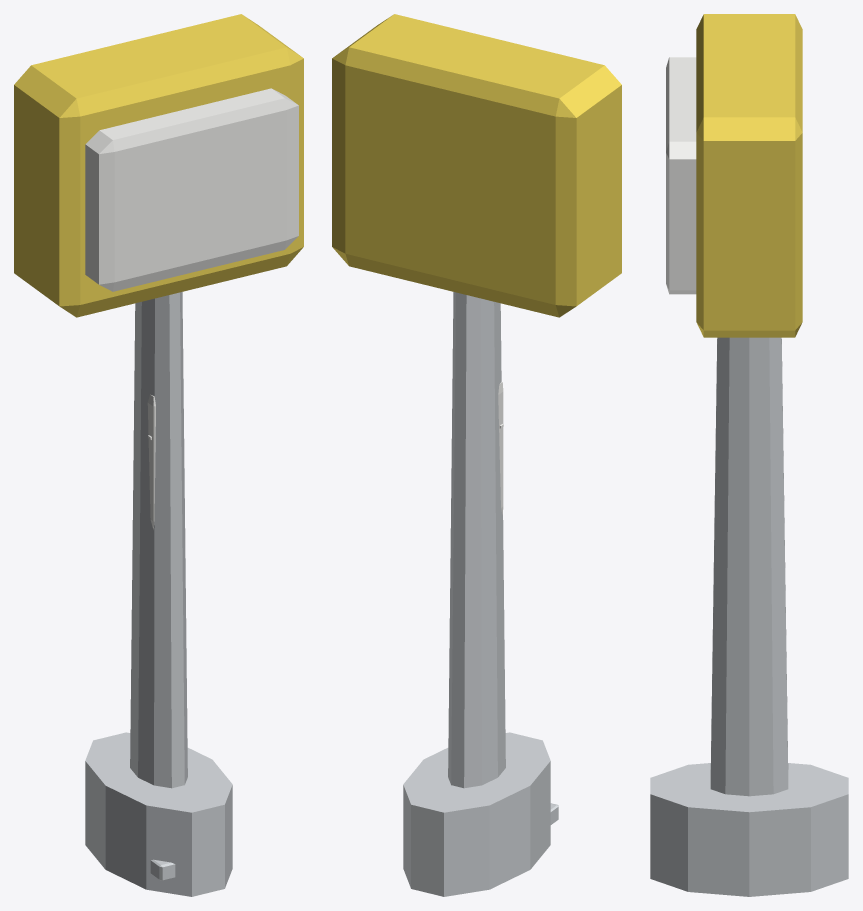
Rendered from b02_pedestrian_walk_signal.glb.
3 views of the same model, side by side, from view 1: azimuth 30°, elevation 25°; view 2: azimuth 150°, elevation 25°; view 3: azimuth 270°, elevation 25° (orthographic).
Parts seen in each view (by area): view 1: b02_pedestrian_walk_signal; view 2: b02_pedestrian_walk_signal; view 3: b02_pedestrian_walk_signal.
Boxes of the visible parts, <box> form: b02_pedestrian_walk_signal: <box>14,14,303,896</box>; b02_pedestrian_walk_signal: <box>332,14,621,896</box>; b02_pedestrian_walk_signal: <box>650,14,848,896</box>.
Size of the model in its own units: 0.815 by 2.55 by 0.57.
